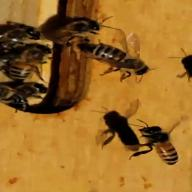Bee: (128, 121, 188, 165), (74, 40, 154, 73), (9, 42, 54, 88)
